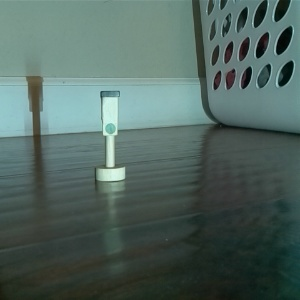traffic light green: (90, 88, 128, 183)
